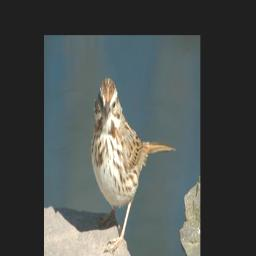Sparrow: (90, 77, 177, 251)
